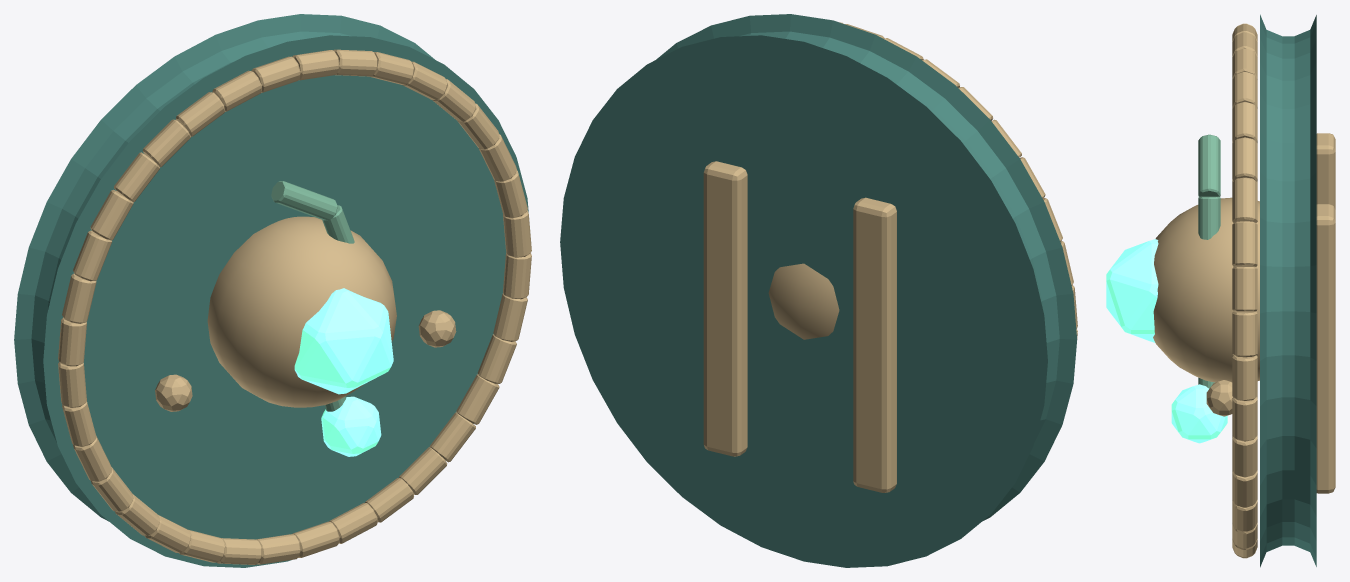
File: warrior-shield-08-serpent-guard.glb
3 views of the same model, side by side, from view 1: azimuth 30°, elevation 25°; view 2: azimuth 150°, elevation 25°; view 3: azimuth 270°, elevation 25° (orthographic). The views are drawn at different scales.
Parts seen in each view (by area): view 1: warrior-shield-08-serpent-guard_ShieldBack, warrior-shield-08-serpent-guard_BossBase, warrior-shield-08-serpent-guard_BossGem, warrior-shield-08-serpent-guard_SerpentEye, warrior-shield-08-serpent-guard_SerpentCoil_1, warrior-shield-08-serpent-guard_RaisedRim_31, warrior-shield-08-serpent-guard_RaisedRim_33, warrior-shield-08-serpent-guard_RaisedRim_30, warrior-shield-08-serpent-guard_RaisedRim_32, warrior-shield-08-serpent-guard_RaisedRim_34, warrior-shield-08-serpent-guard_RaisedRim_13, warrior-shield-08-serpent-guard_RaisedRim_29 (+32 smaller); view 2: warrior-shield-08-serpent-guard_ShieldBack, warrior-shield-08-serpent-guard_BackStrap_1, warrior-shield-08-serpent-guard_BackStrap_-1, warrior-shield-08-serpent-guard_BossBase; view 3: warrior-shield-08-serpent-guard_ShieldBack, warrior-shield-08-serpent-guard_BossBase, warrior-shield-08-serpent-guard_BackStrap_1, warrior-shield-08-serpent-guard_BossGem, warrior-shield-08-serpent-guard_SerpentEye, warrior-shield-08-serpent-guard_BackStrap_-1, warrior-shield-08-serpent-guard_SerpentCoil_1, warrior-shield-08-serpent-guard_RaisedRim_8, warrior-shield-08-serpent-guard_RaisedRim_6, warrior-shield-08-serpent-guard_RaisedRim_7, warrior-shield-08-serpent-guard_RaisedRim_5, warrior-shield-08-serpent-guard_RaisedRim_9 (+12 smaller).
Boxes of the visible parts, x1,y1,x2,y2 form: warrior-shield-08-serpent-guard_ShieldBack: [14, 14, 528, 567]; warrior-shield-08-serpent-guard_BossBase: [207, 216, 396, 407]; warrior-shield-08-serpent-guard_BossGem: [294, 288, 393, 394]; warrior-shield-08-serpent-guard_SerpentEye: [321, 396, 381, 456]; warrior-shield-08-serpent-guard_SerpentCoil_1: [271, 181, 337, 220]; warrior-shield-08-serpent-guard_RaisedRim_31: [90, 189, 133, 240]; warrior-shield-08-serpent-guard_RaisedRim_33: [142, 119, 190, 167]; warrior-shield-08-serpent-guard_RaisedRim_30: [73, 230, 112, 281]; warrior-shield-08-serpent-guard_RaisedRim_32: [114, 152, 159, 202]; warrior-shield-08-serpent-guard_RaisedRim_34: [175, 92, 225, 136]; warrior-shield-08-serpent-guard_RaisedRim_13: [456, 374, 499, 424]; warrior-shield-08-serpent-guard_RaisedRim_29: [62, 273, 96, 323]; warrior-shield-08-serpent-guard_ShieldBack: [560, 14, 1077, 567]; warrior-shield-08-serpent-guard_BackStrap_1: [703, 161, 747, 456]; warrior-shield-08-serpent-guard_BackStrap_-1: [853, 197, 896, 492]; warrior-shield-08-serpent-guard_BossBase: [768, 263, 839, 339]; warrior-shield-08-serpent-guard_ShieldBack: [1260, 14, 1316, 567]; warrior-shield-08-serpent-guard_BossBase: [1153, 197, 1259, 382]; warrior-shield-08-serpent-guard_BackStrap_1: [1316, 204, 1335, 493]; warrior-shield-08-serpent-guard_BossGem: [1106, 239, 1158, 342]; warrior-shield-08-serpent-guard_SerpentEye: [1171, 384, 1227, 443]; warrior-shield-08-serpent-guard_BackStrap_-1: [1316, 133, 1335, 209]; warrior-shield-08-serpent-guard_SerpentCoil_1: [1198, 134, 1220, 196]; warrior-shield-08-serpent-guard_RaisedRim_8: [1232, 311, 1257, 357]; warrior-shield-08-serpent-guard_RaisedRim_6: [1232, 221, 1257, 266]; warrior-shield-08-serpent-guard_RaisedRim_7: [1232, 267, 1257, 311]; warrior-shield-08-serpent-guard_RaisedRim_5: [1232, 177, 1257, 222]; warrior-shield-08-serpent-guard_RaisedRim_9: [1232, 355, 1257, 400].
Bounding box in the file's own units: 1.11 × 1.13 × 0.4652.
